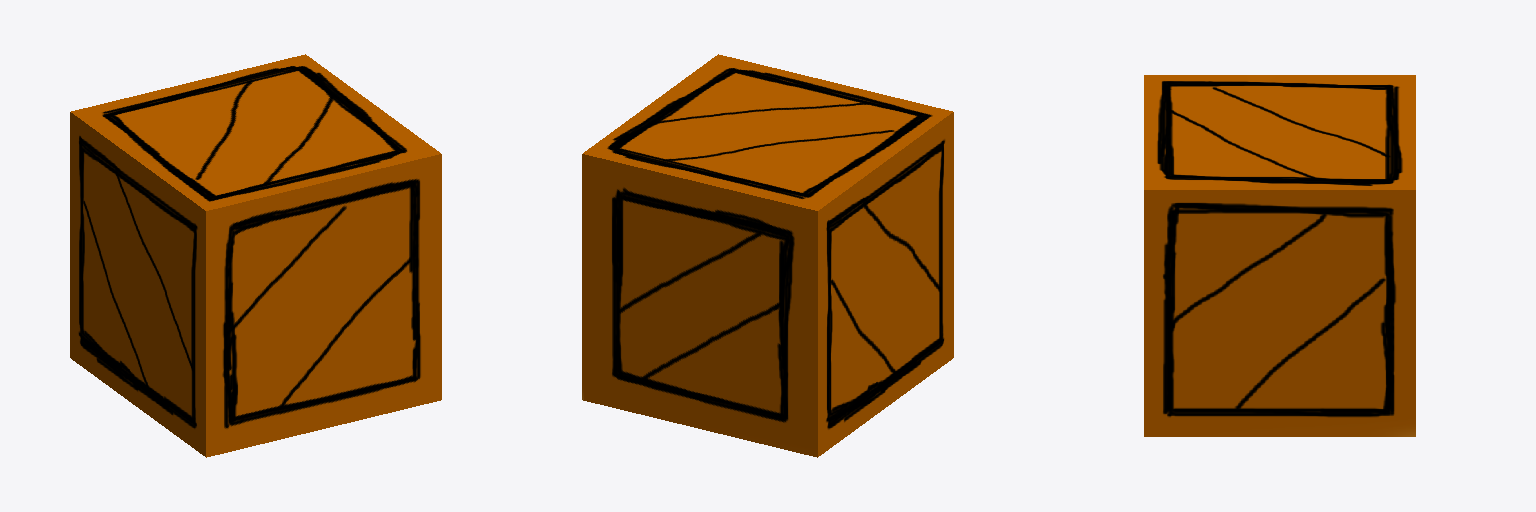
3 renders of one model, left to right at view 1: azimuth 30°, elevation 25°; view 2: azimuth 150°, elevation 25°; view 3: azimuth 270°, elevation 25°, orthographic.
Visible parts, largest first — view 1: Cube; view 2: Cube; view 3: Cube.
Boxes of the visible parts, x1,y1,x2,y2 form: Cube: [70, 54, 441, 457]; Cube: [582, 54, 953, 457]; Cube: [1144, 75, 1415, 436].
Bounding box in the file's own units: 1.1 × 1.1 × 1.1.
Materials: 1 (1 with a texture image).